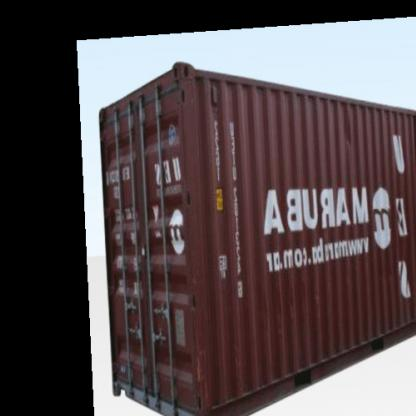Damage: (254, 263, 323, 334), (186, 292, 208, 410), (330, 118, 370, 152)
